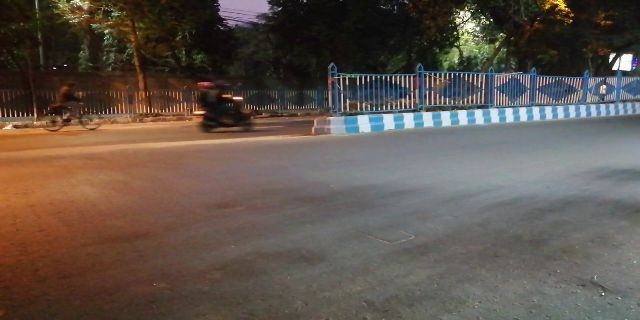Cycle: (40, 82, 104, 132)
Motorbike: (183, 74, 261, 133)
